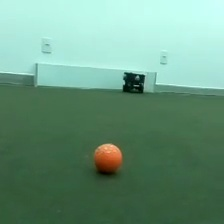ball: (91, 139, 124, 176)
goal: (33, 60, 158, 94)
robot: (121, 69, 146, 95)
